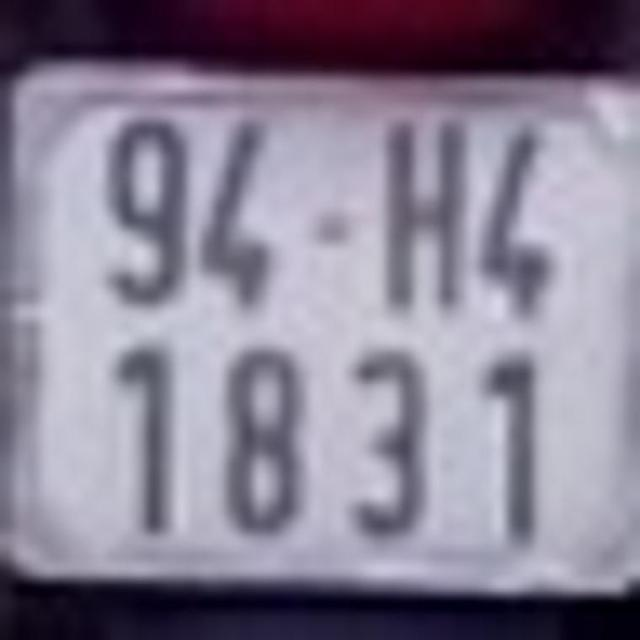1: (478, 347, 546, 543), (116, 341, 175, 534)
3: (348, 342, 428, 539)
4: (478, 119, 556, 323), (200, 119, 273, 312)
8: (226, 344, 302, 536)
9: (105, 115, 188, 308)
H: (381, 111, 467, 315)
